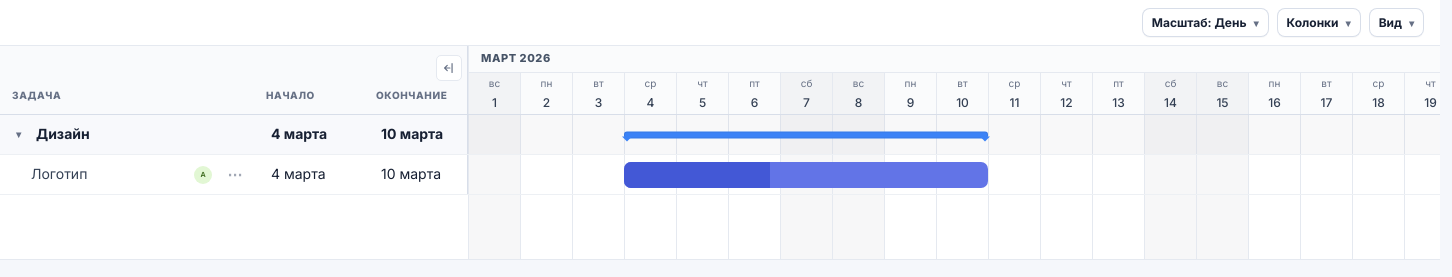
Test: карточка наведения на полоску › одного исполнителя зовёт по имени
Hover over the button named "Логотип" at (697, 174), box [624,162,988,188]
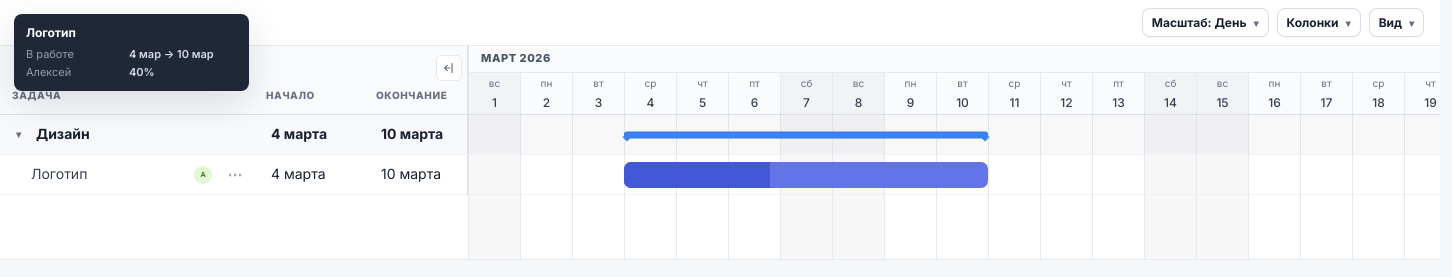
expect the element with test id "bar-tip" shows "Алексей": met, box [26,65,71,79]
